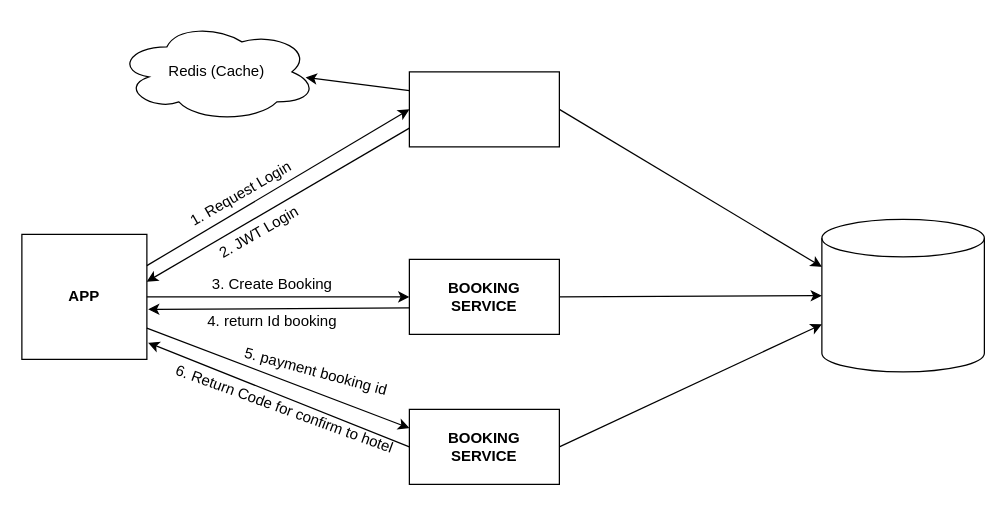
Some shapes in this 1006 by 506 pixel diagram are drawn without their labels. Each missing label, with the centre of its shape:
"DB_Hotel" goes at point 902,295.
"USER SERVICE" goes at point 483,109.
